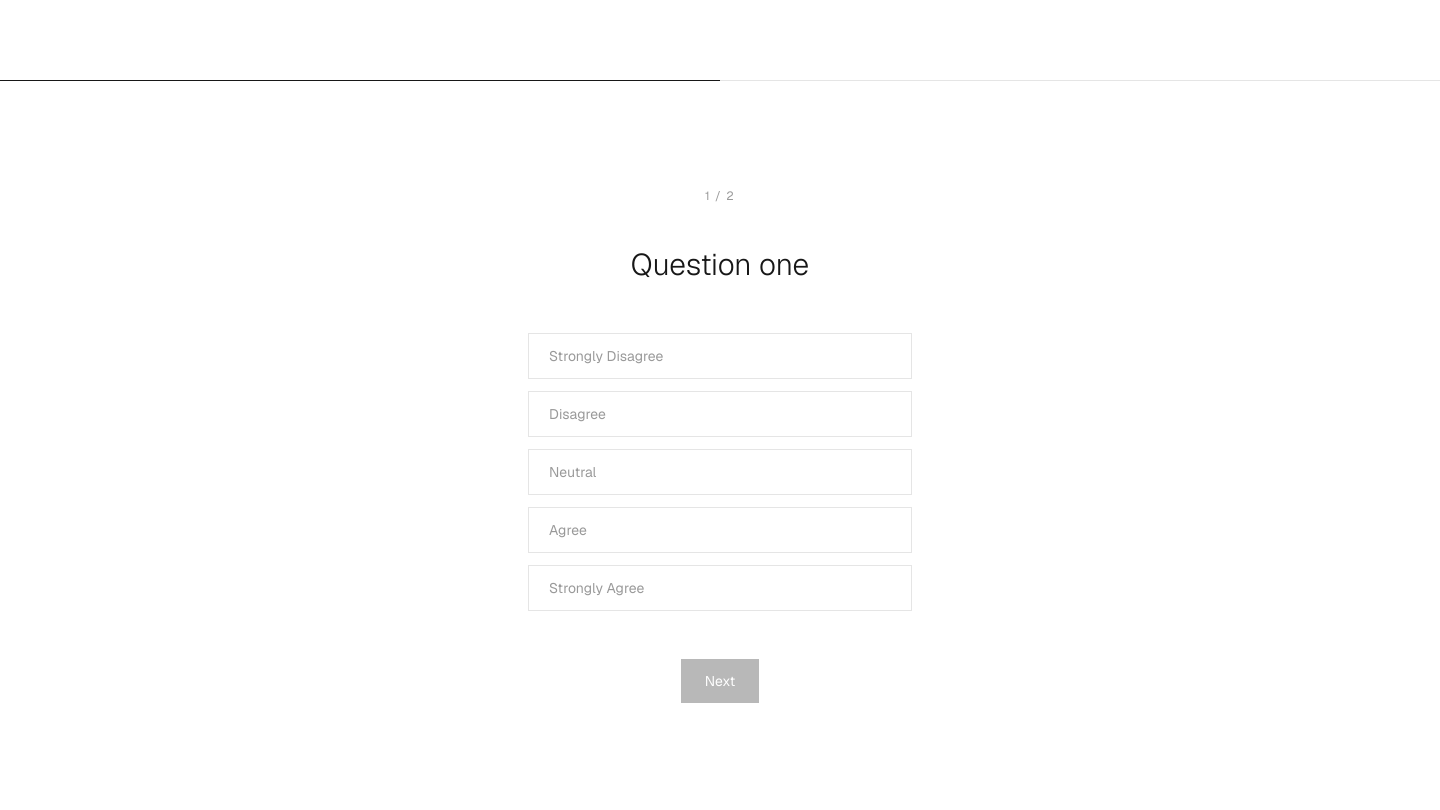
Scenario: QuizContainer › advances to the next question and reveals Back + See Results
The image size is (1440, 810).
Step 1. Click the button "Agree" → (568, 530), box [528, 507, 912, 553]
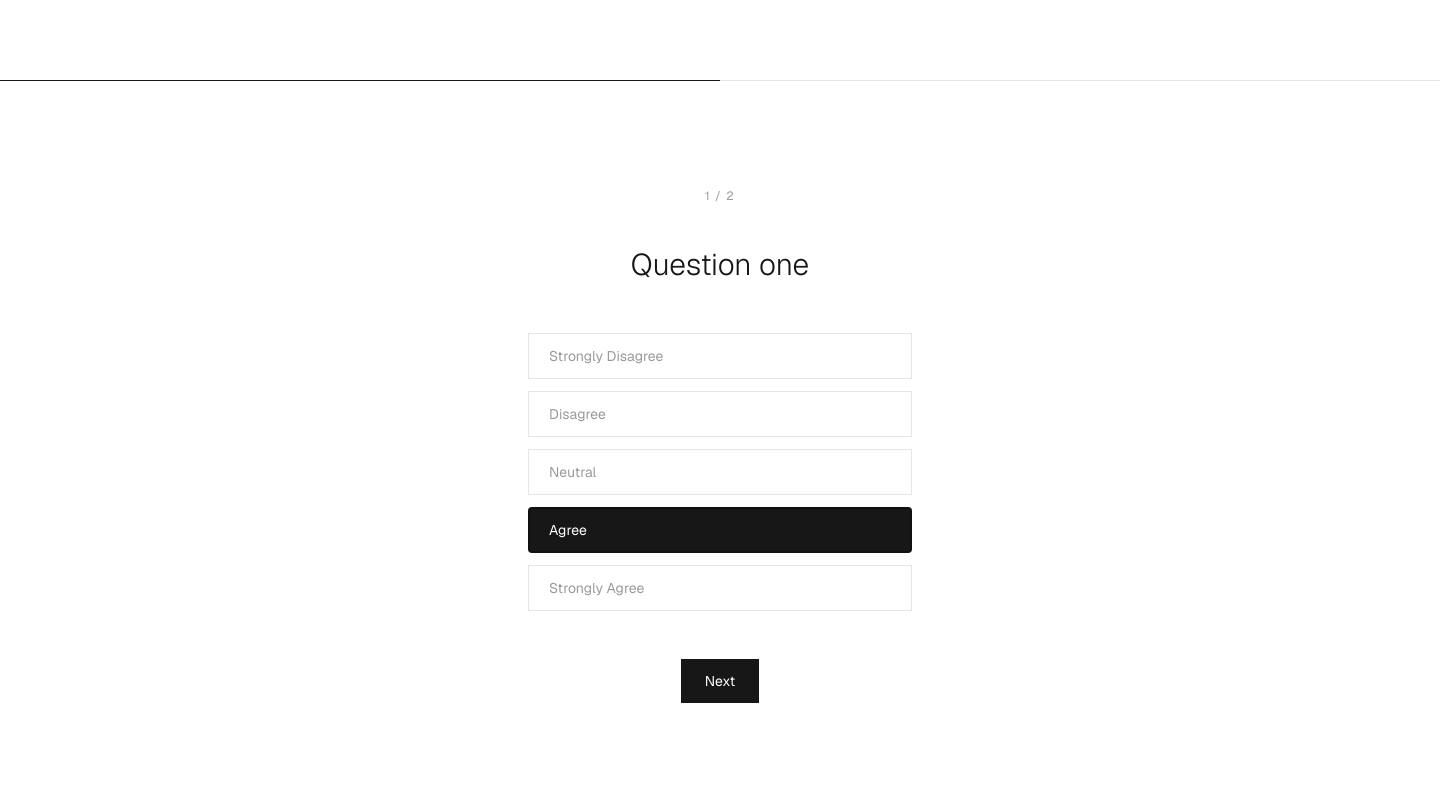
Step 2. Click the button "Next" → (720, 681), box [681, 659, 759, 703]
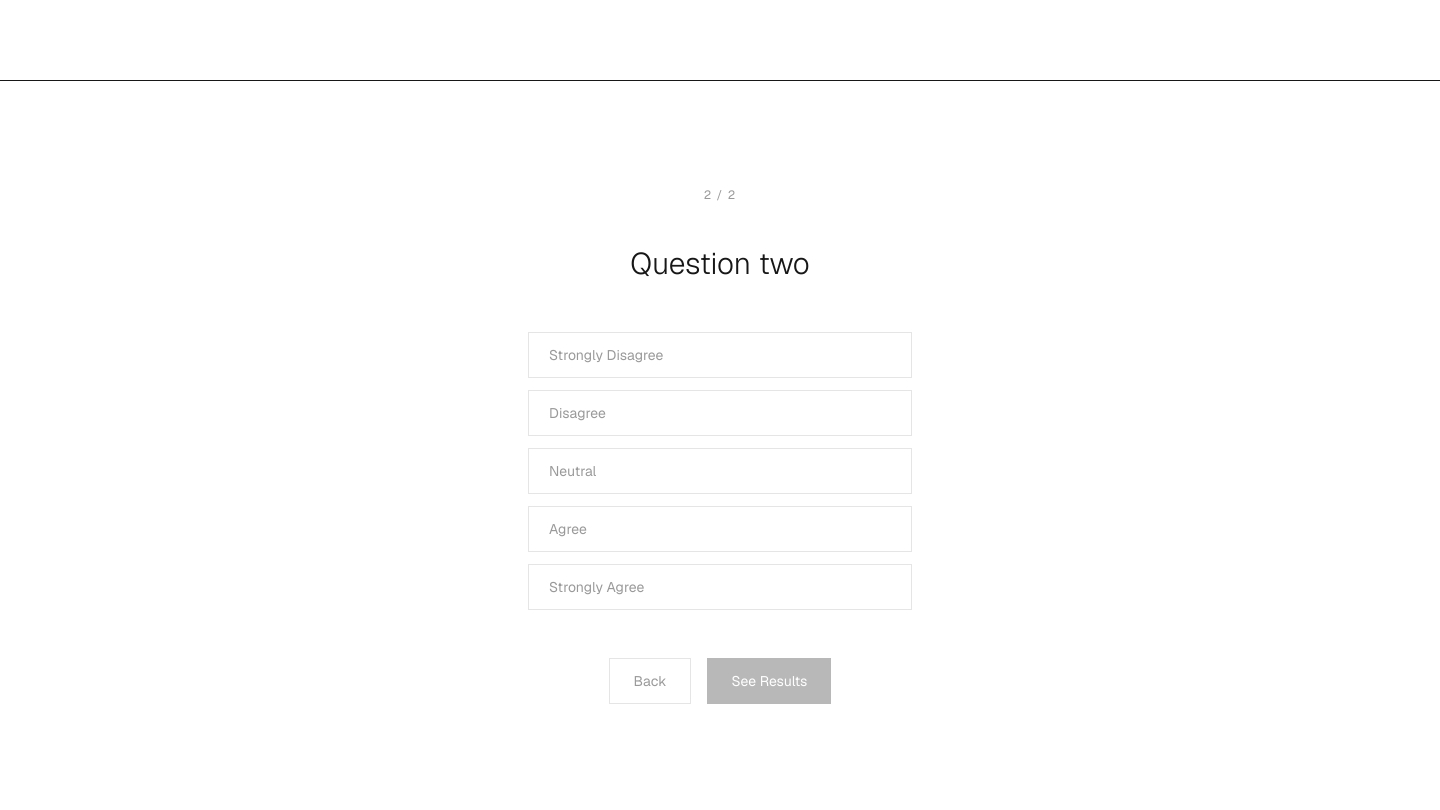
Result: the heading "Question two" is shown at [630, 243, 810, 284]
Result: the button "Back" is shown at [609, 658, 691, 704]
Result: the button "See Results" is shown at [707, 658, 831, 704]
